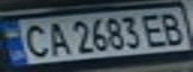2: (69, 17, 93, 55)
3: (121, 14, 145, 50)
6: (87, 16, 109, 53)
8: (106, 15, 127, 52)
A: (42, 19, 72, 57)
B: (157, 9, 190, 46)
C: (15, 21, 51, 60)
E: (139, 10, 172, 48)
